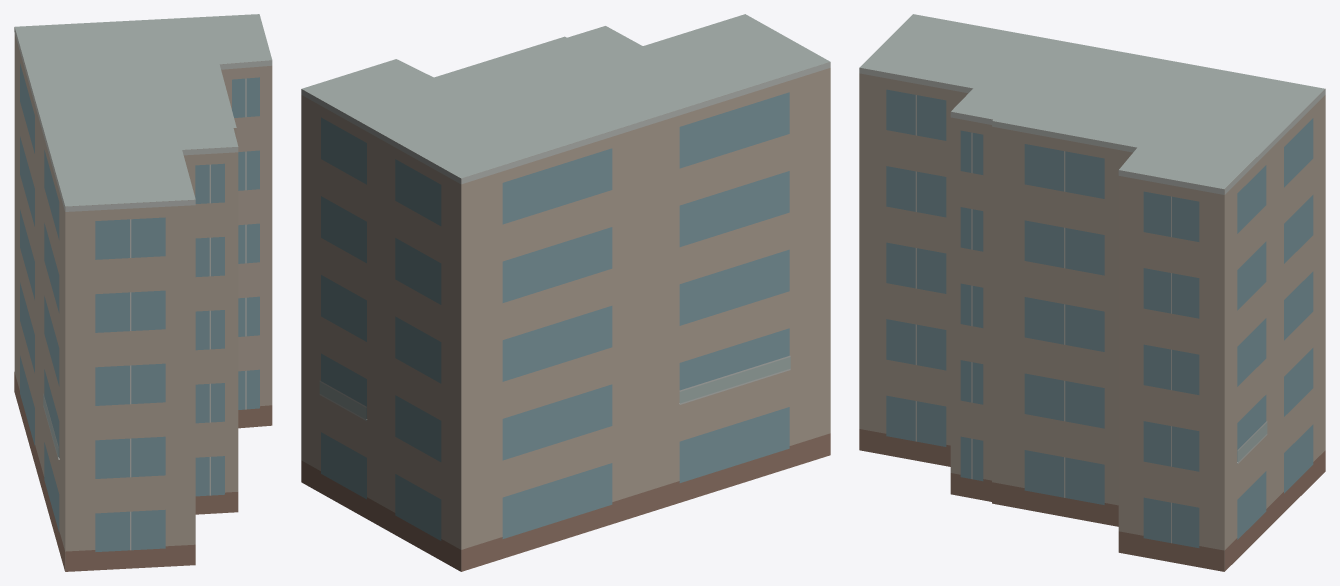
Rendered from survey-upis-32963260.glb.
The picture shows the model from 3 angles, left to right: view 1: azimuth 30°, elevation 25°; view 2: azimuth 150°, elevation 25°; view 3: azimuth 270°, elevation 25°; orthographic projection. The views are drawn at different scales.
Visible parts, largest first — view 1: survey-upis-32963260.tmp; view 2: survey-upis-32963260.tmp; view 3: survey-upis-32963260.tmp.
Part boxes in pixels (<box>): survey-upis-32963260.tmp: <box>14,14,272,571</box>; survey-upis-32963260.tmp: <box>301,14,830,571</box>; survey-upis-32963260.tmp: <box>859,14,1325,571</box>.
Bounding box in the file's own units: 15.92 × 16.2 × 17.9.
